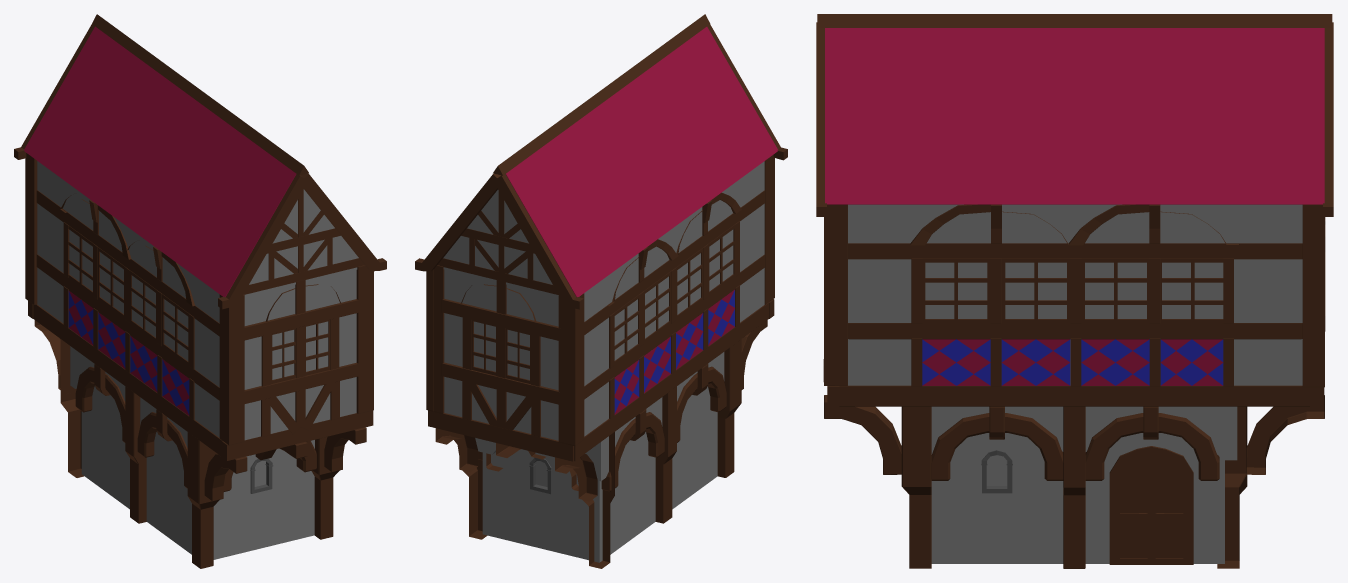
The model's file is MedievalHouse.fbx.
3 renders of one model, left to right at view 1: azimuth 30°, elevation 25°; view 2: azimuth 150°, elevation 25°; view 3: azimuth 270°, elevation 25°, orthographic. The views are drawn at different scales.
Parts seen in each view (by area): view 1: Cube, Cube.001, RDC, Cube.002; view 2: Cube, Cube.001, RDC, Cube.002, Cube.003; view 3: Cube, Cube.001, RDC, Cube.002.
Boxes of the visible parts, x1,y1,x2,y2 form: Cube: (25, 153, 373, 460); Cube.001: (14, 24, 386, 309); RDC: (34, 320, 366, 568); Cube.002: (92, 14, 308, 175); Cube: (426, 154, 774, 461); Cube.001: (415, 24, 787, 309); RDC: (435, 320, 767, 568); Cube.002: (493, 14, 710, 175); Cube.003: (428, 410, 573, 461); Cube: (824, 204, 1325, 406); Cube.001: (816, 22, 1333, 216); RDC: (823, 359, 1324, 568); Cube.002: (817, 14, 1332, 27).
Size of the model in its own units: 314 by 756 by 688.
